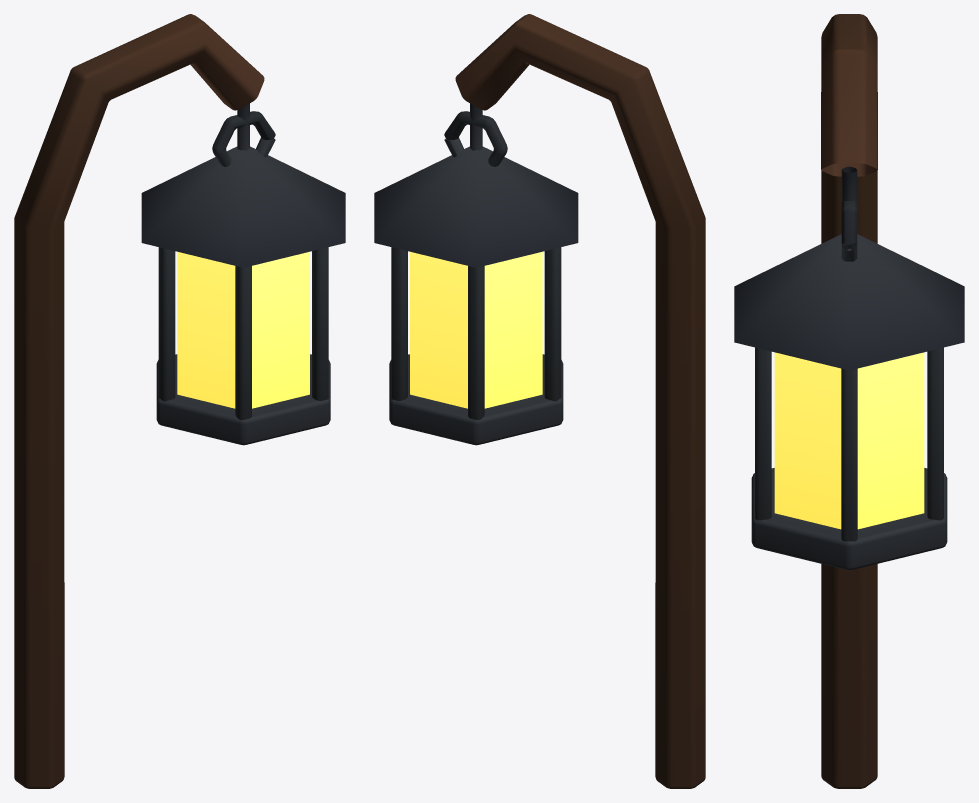
Rendered from lg_first_lantern.glb.
3 renders of one model, left to right at view 1: azimuth 30°, elevation 25°; view 2: azimuth 150°, elevation 25°; view 3: azimuth 270°, elevation 25°, orthographic. The views are drawn at different scales.
Visible parts, largest first — view 1: lg_first_lantern, lg_first_lantern_glow; view 2: lg_first_lantern, lg_first_lantern_glow; view 3: lg_first_lantern, lg_first_lantern_glow.
Boxes of the visible parts, x1,y1,x2,y2 form: lg_first_lantern: [14, 14, 345, 788]; lg_first_lantern_glow: [177, 251, 309, 408]; lg_first_lantern: [374, 14, 705, 788]; lg_first_lantern_glow: [410, 251, 542, 408]; lg_first_lantern: [734, 14, 964, 788]; lg_first_lantern_glow: [774, 352, 924, 529].
Size of the model in its own units: 0.639 by 1.36 by 0.3464.
